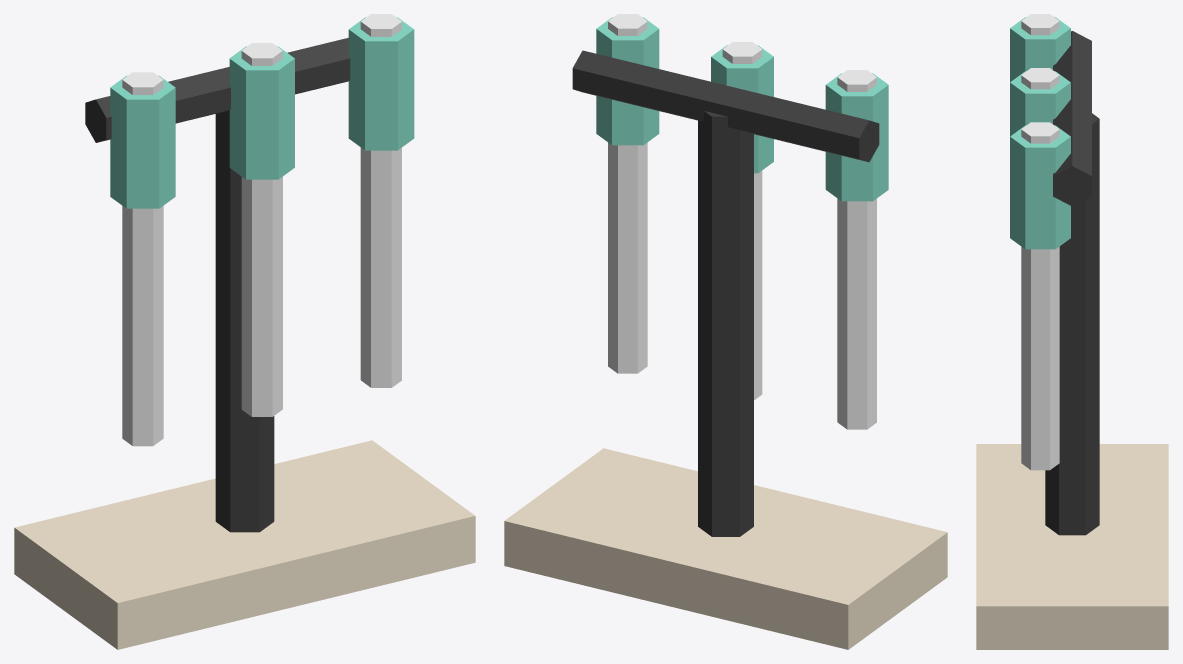
3 views of the same model, side by side, from view 1: azimuth 30°, elevation 25°; view 2: azimuth 150°, elevation 25°; view 3: azimuth 270°, elevation 25° (orthographic). The views are drawn at different scales.
Parts seen in each view (by area): view 1: Foot, Rack, Pipette, Pipette.001, Pipette.002, Grip.002, Grip, Grip.001, Rail; view 2: Foot, Rack, Rail, Pipette, Pipette.002, Grip, Grip.002, Pipette.001, Grip.001; view 3: Foot, Rack, Pipette.002, Grip.002, Rail, Grip.001, Grip, Pipette.001, Pipette.
Boxes of the visible parts, x1,y1,x2,y2 form: Foot: [14, 440, 475, 649]; Rack: [215, 110, 274, 532]; Pipette: [122, 72, 163, 446]; Pipette.001: [241, 43, 282, 416]; Pipette.002: [360, 14, 401, 387]; Grip.002: [348, 17, 414, 150]; Grip: [110, 75, 175, 208]; Grip.001: [229, 46, 294, 179]; Rail: [85, 38, 350, 142]; Foot: [504, 448, 947, 649]; Rack: [698, 111, 753, 536]; Rail: [572, 50, 879, 162]; Pipette: [837, 70, 876, 429]; Pipette.002: [608, 14, 647, 373]; Grip: [825, 73, 888, 201]; Grip.002: [596, 17, 659, 145]; Pipette.001: [722, 42, 762, 400]; Grip.001: [711, 45, 773, 173]; Foot: [976, 444, 1168, 649]; Rack: [1045, 113, 1099, 535]; Pipette.002: [1021, 122, 1059, 470]; Grip.002: [1010, 125, 1070, 249]; Rail: [1053, 31, 1091, 206]; Grip.001: [1010, 71, 1070, 136]; Grip: [1010, 17, 1070, 81]; Pipette.001: [1021, 68, 1059, 89]; Pipette: [1021, 14, 1059, 35].
Size of the model in its own units: 0.24 by 0.34 by 0.12.
Materials: 1 (1 with a texture image).
